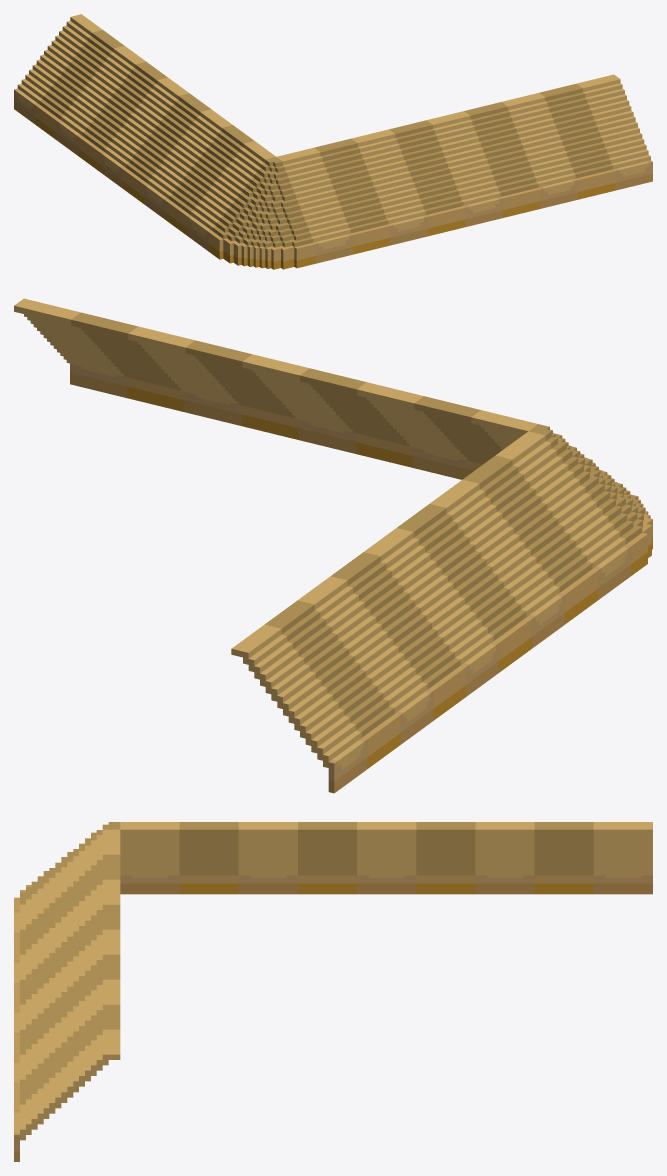
File: Voxel City-8-Fabric Roof-1.obj
The picture shows the model from 3 angles, top to bottom: view 1: azimuth 30°, elevation 25°; view 2: azimuth 150°, elevation 25°; view 3: azimuth 270°, elevation 25°; orthographic projection. The views are drawn at different scales.
Parts seen in each view (by area): view 1: Fabric Roof-1; view 2: Fabric Roof-1; view 3: Fabric Roof-1.
Part boxes in pixels (<box>): Fabric Roof-1: <box>14,14,652,269</box>; Fabric Roof-1: <box>14,298,652,793</box>; Fabric Roof-1: <box>14,822,652,1161</box>.
Bounding box in the file's own units: 5.4 × 1 × 5.4.
Materials: 1 (1 with a texture image).
